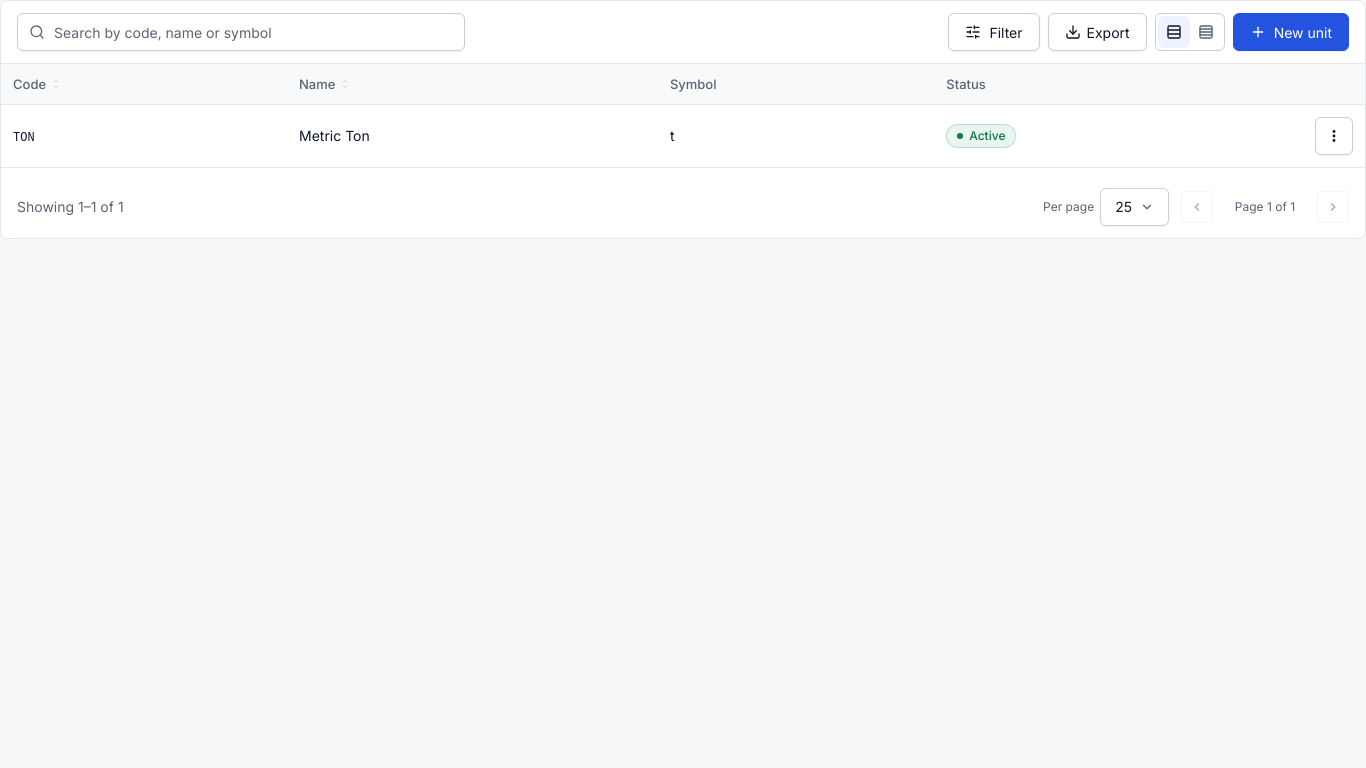
Scenario: CreateForm — dismissal (ADR-039 FormDialog) › asks before discarding a typed value, but not once it is typed back to empty
This screenshot has width=1366, height=768.
Step 1. Click the button "New unit" → (1291, 32), box x1=1233 y1=13 x2=1349 y2=51
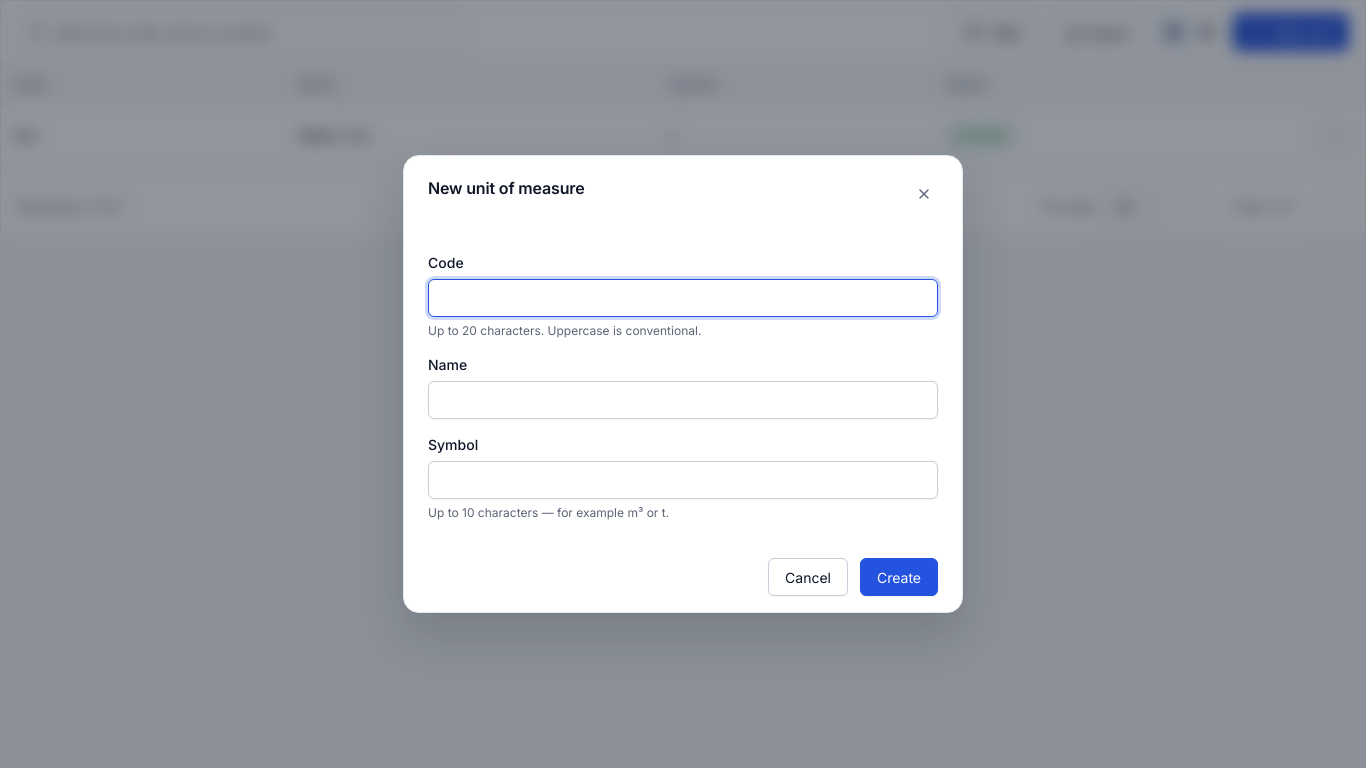
Step 2. Type "BAG" into the field labelled "Code" → (683, 298), box x1=428 y1=279 x2=938 y2=317
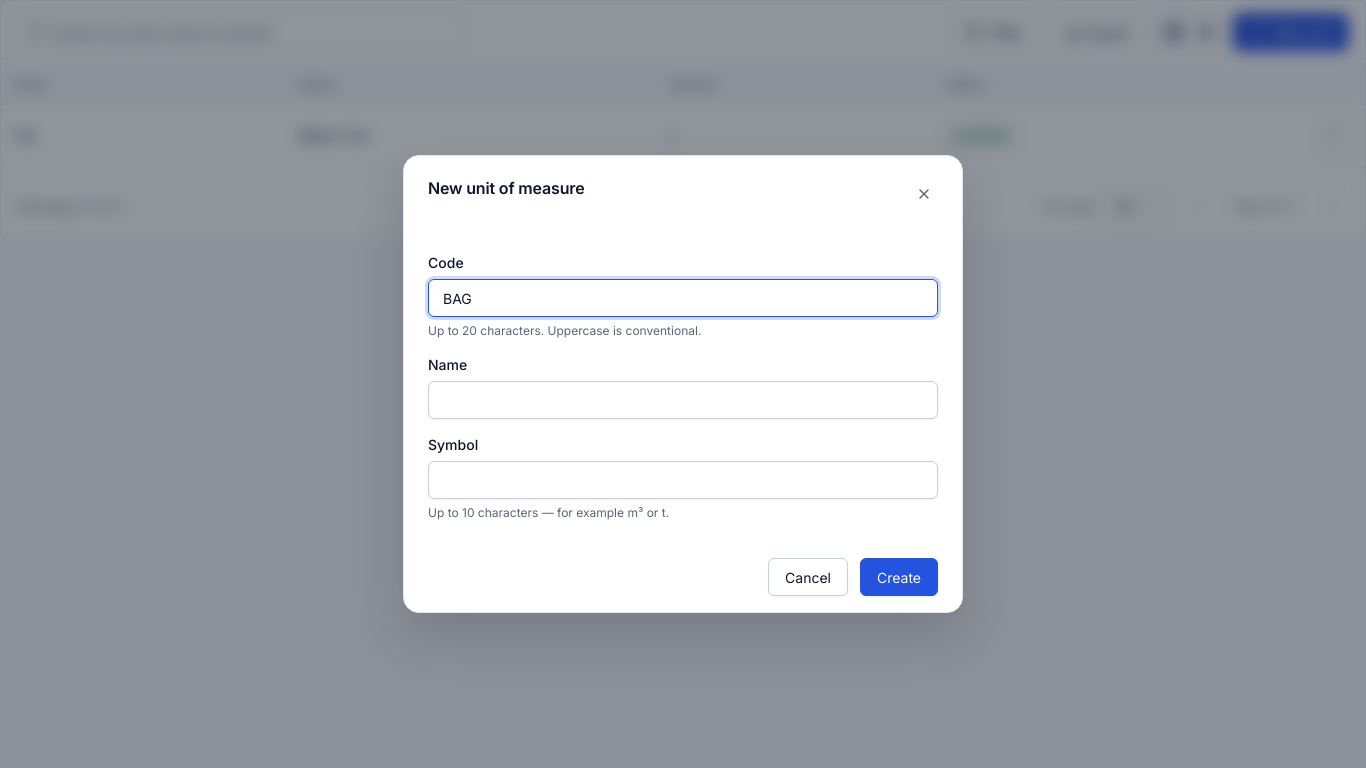
Step 3. Click the button "Cancel" → (808, 577), box x1=768 y1=558 x2=848 y2=596
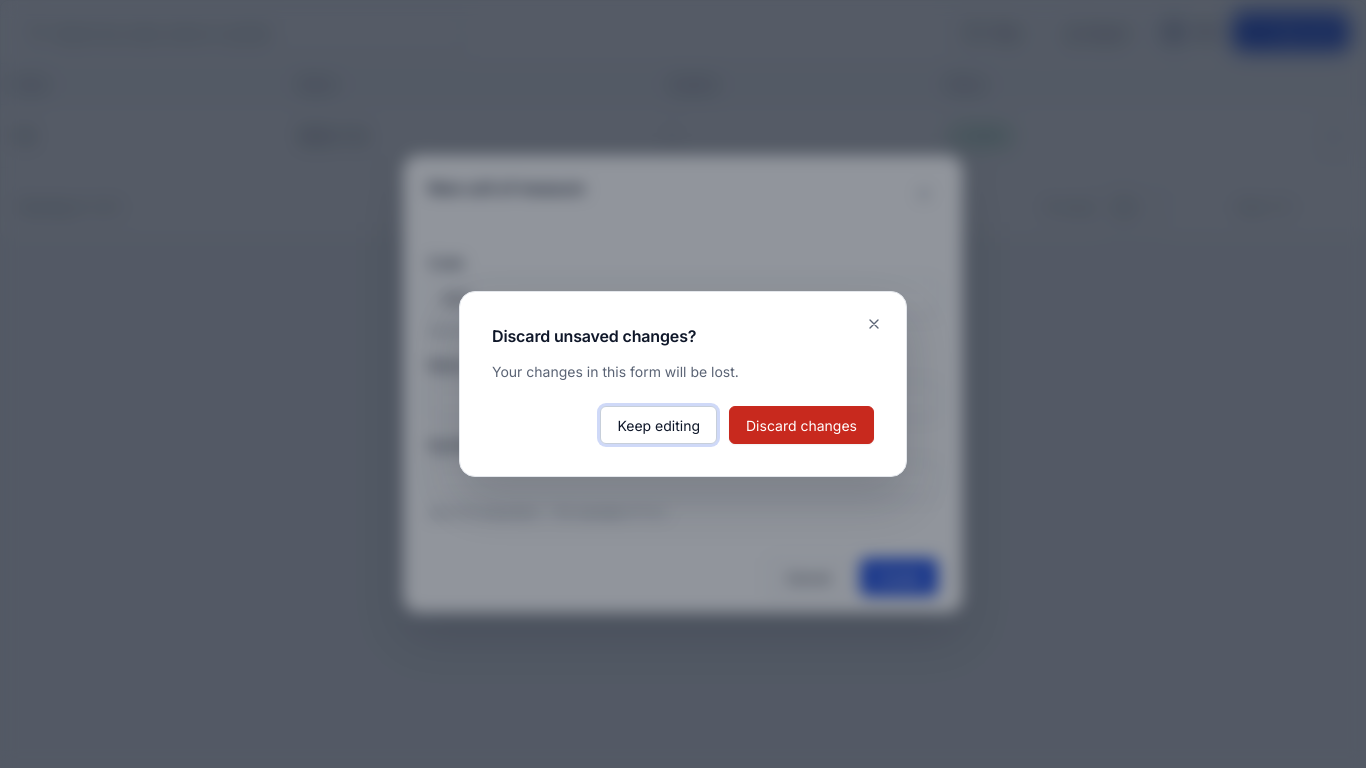
Check: the heading "Discard unsaved changes?" is shown, box x1=492 y1=326 x2=696 y2=346
Step 4. Click the button "Keep editing" → (659, 425), box x1=600 y1=406 x2=717 y2=444
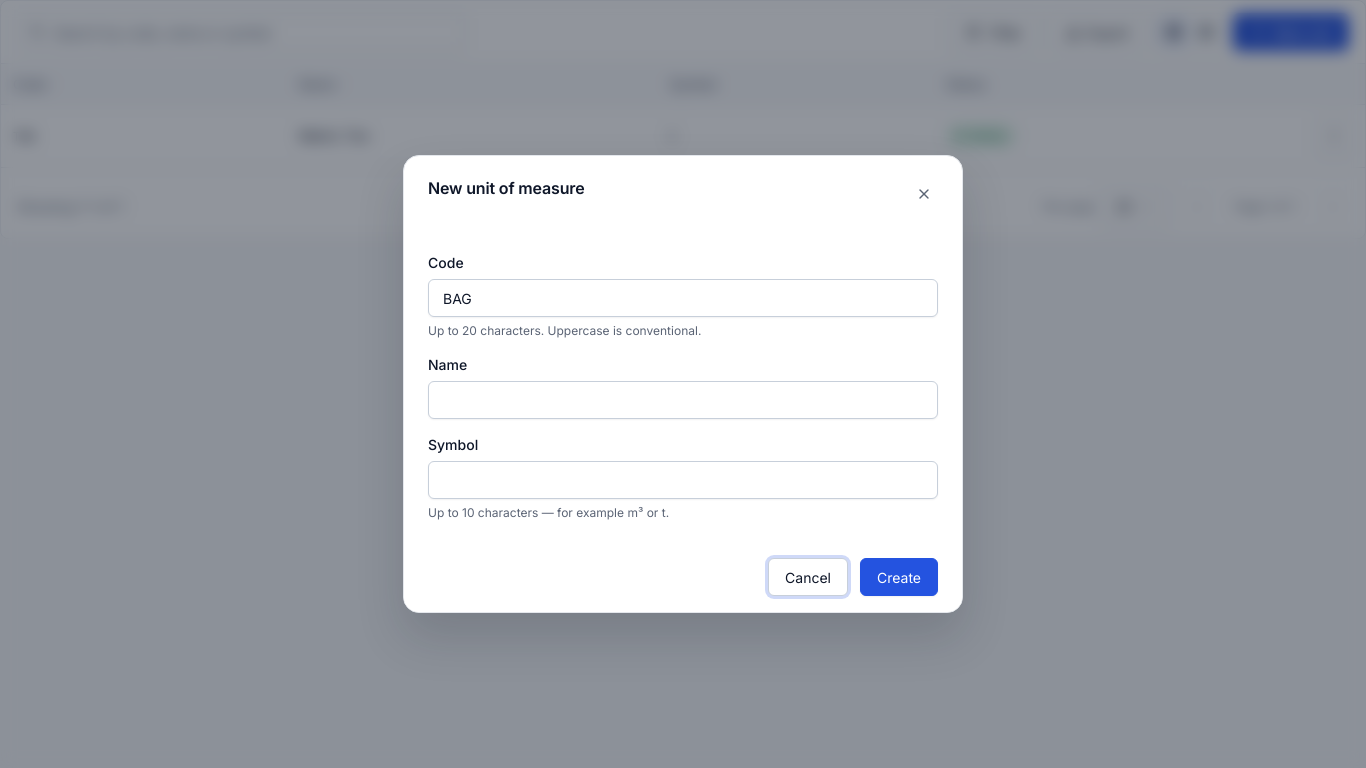
Changed and changed back: no longer an edit, so Cancel just closes.
Step 5. Clear the field labelled "Code" → (683, 298), box x1=428 y1=279 x2=938 y2=317
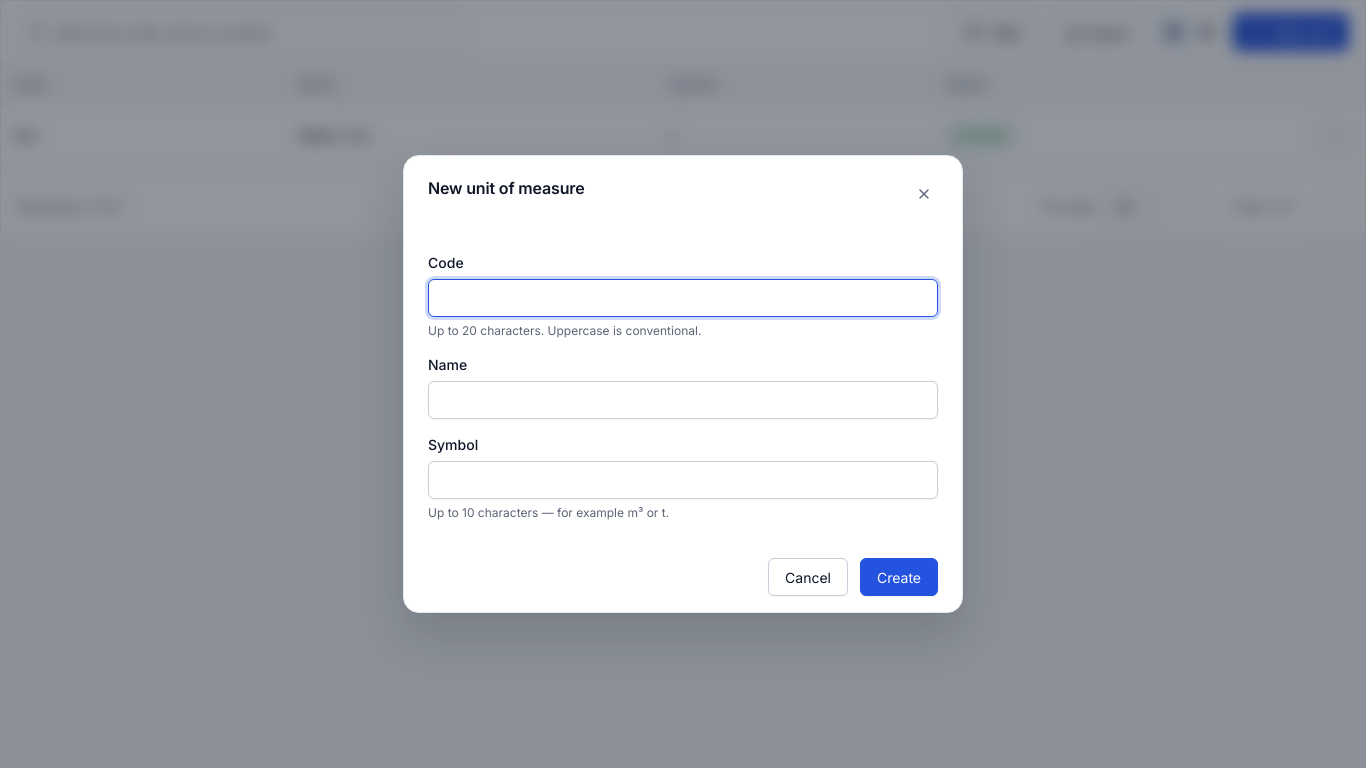
Step 6. Click the button "Cancel" → (808, 577), box x1=768 y1=558 x2=848 y2=596
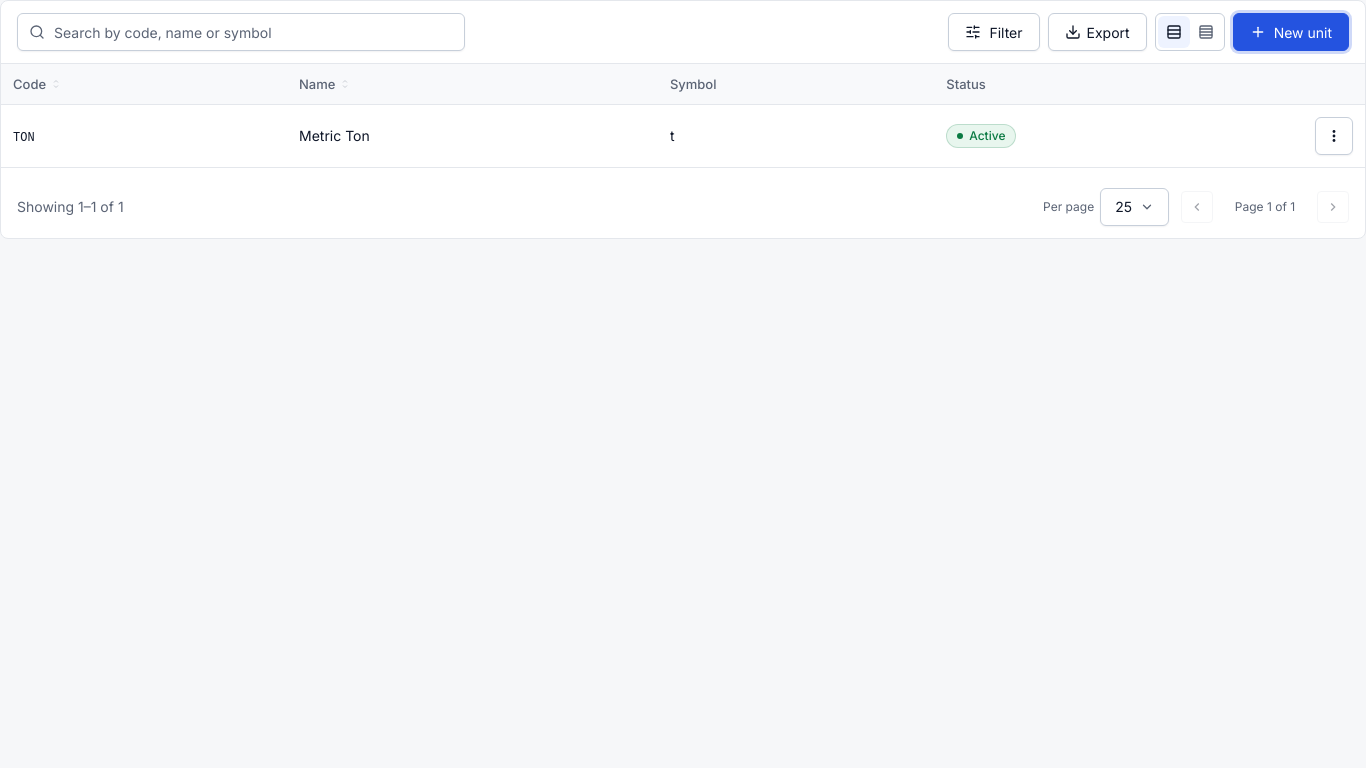
Check: the heading "Discard unsaved changes?" is not shown
Check: the heading "New unit of measure" is gone
